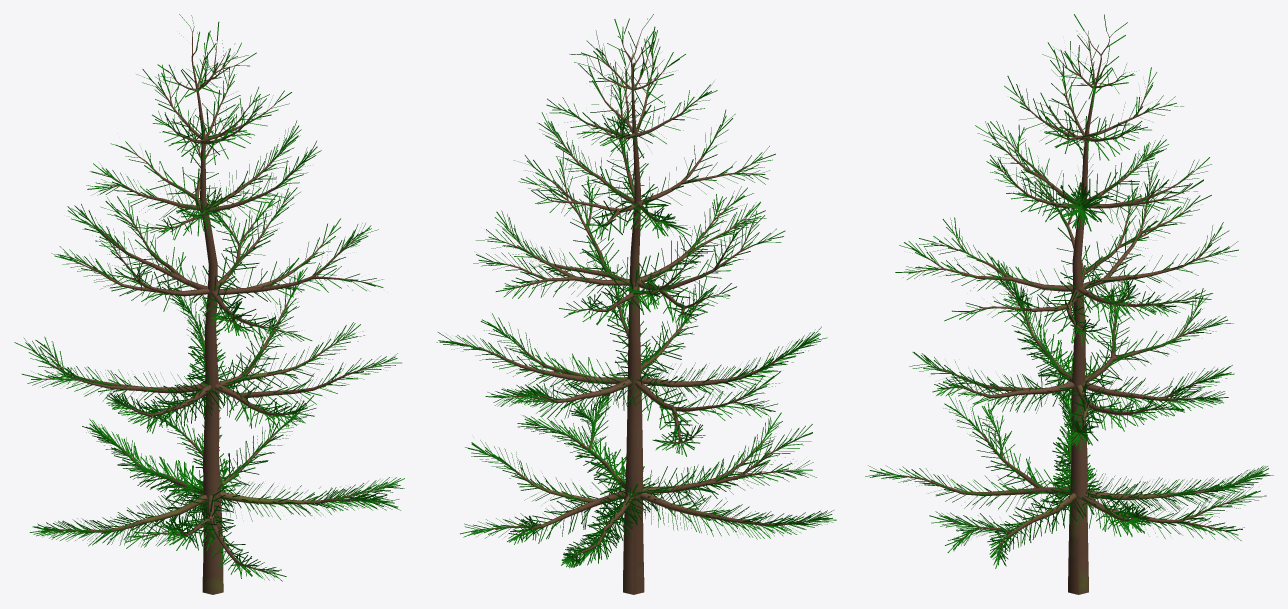
File: TreeEI_LOD_single.fbx
3 views of the same model, side by side, from view 1: azimuth 30°, elevation 25°; view 2: azimuth 150°, elevation 25°; view 3: azimuth 270°, elevation 25° (orthographic). The views are drawn at different scales.
Parts seen in each view (by area): view 1: treeEL_mesh_LOD0; view 2: treeEL_mesh_LOD0; view 3: treeEL_mesh_LOD0.
Part boxes in pixels (x1,y1,x2,y2): treeEL_mesh_LOD0: [14, 14, 404, 594]; treeEL_mesh_LOD0: [436, 14, 836, 594]; treeEL_mesh_LOD0: [865, 14, 1273, 594].
Size of what is drawn, in the model's own units: 320 by 511 by 331.
